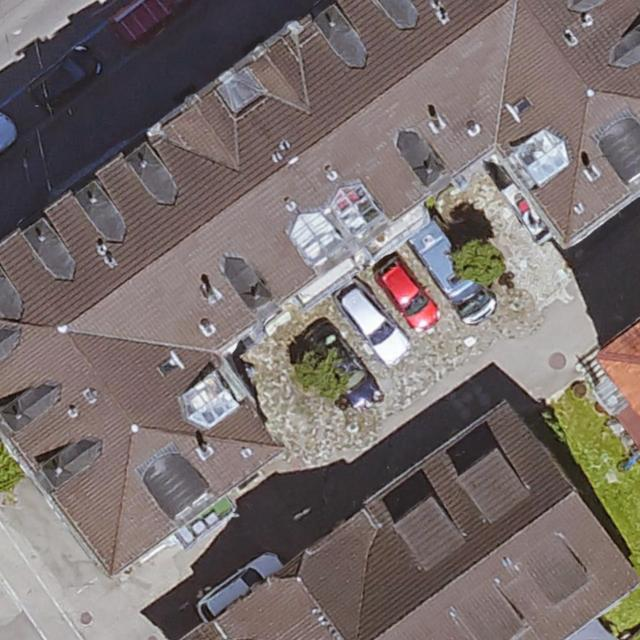tree: (454, 239, 505, 286), (298, 352, 345, 399)
